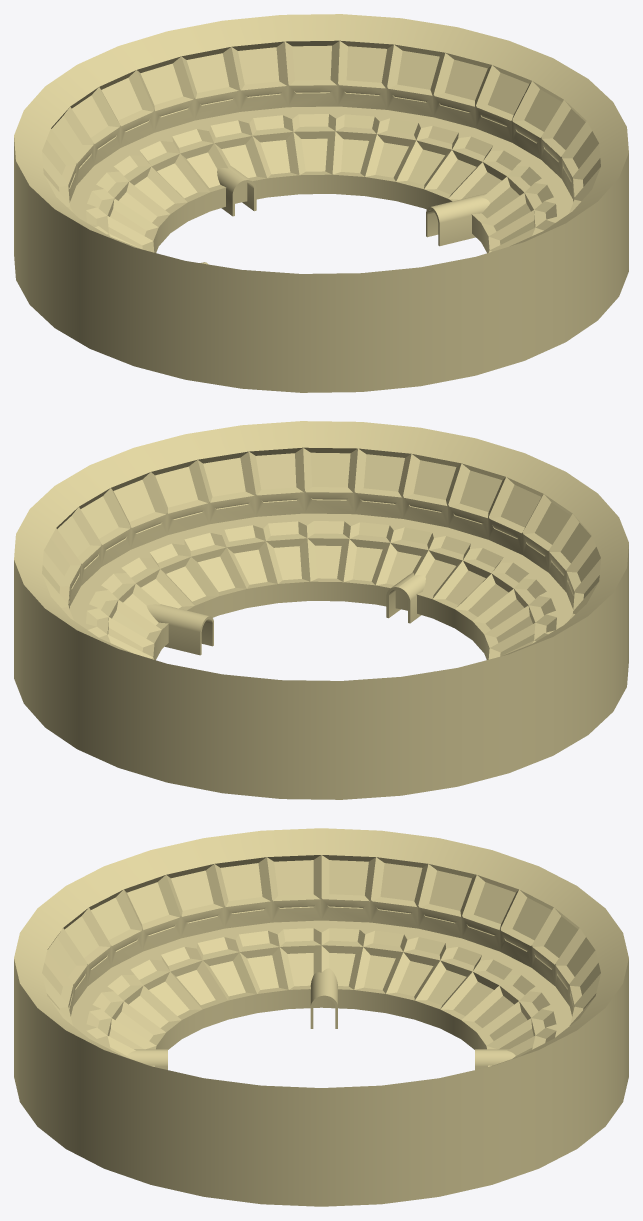
The model's file is colluseum2.glb.
3 views of the same model, one above another, from view 1: azimuth 30°, elevation 25°; view 2: azimuth 150°, elevation 25°; view 3: azimuth 270°, elevation 25° (orthographic).
Parts seen in each view (by area): view 1: Sphere; view 2: Sphere; view 3: Sphere.
Part boxes in pixels (<box>): Sphere: <box>14,14,628,392</box>; Sphere: <box>14,421,628,799</box>; Sphere: <box>14,828,628,1206</box>.
Size of the model in its own units: 66.16 by 14.91 by 66.16.
